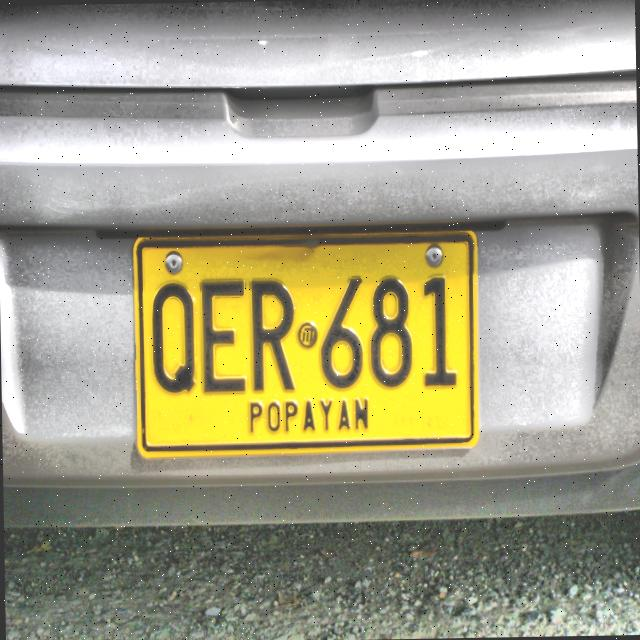plate: (133, 228, 479, 459)
